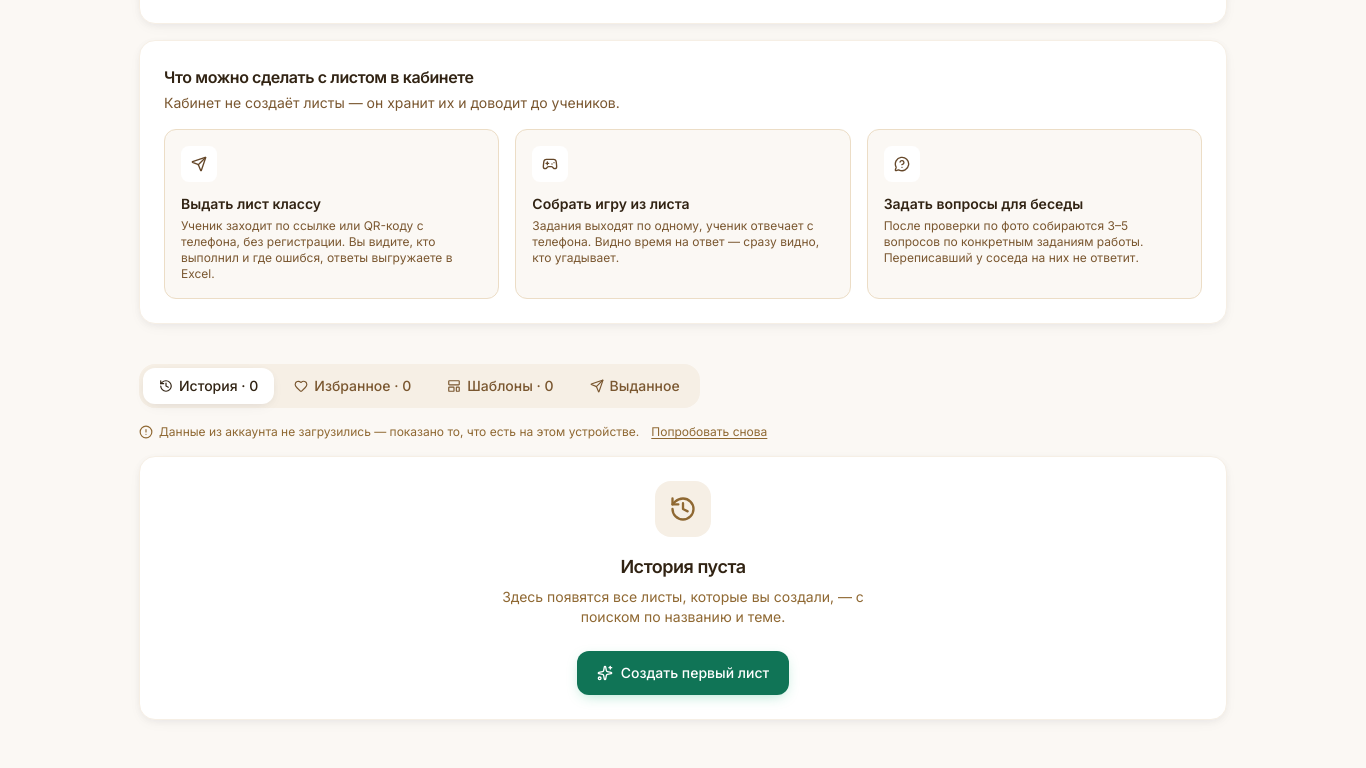
Scenario: Остальные вкладки кабинета › пустое избранное предлагает действие (был тупик action={null})
(page scrolled)
Expected: the heading "История пуста" is shown, [620, 556, 746, 577]
Step 1. Click the tab "Избранное · 0" → (353,386), box [278, 368, 427, 404]
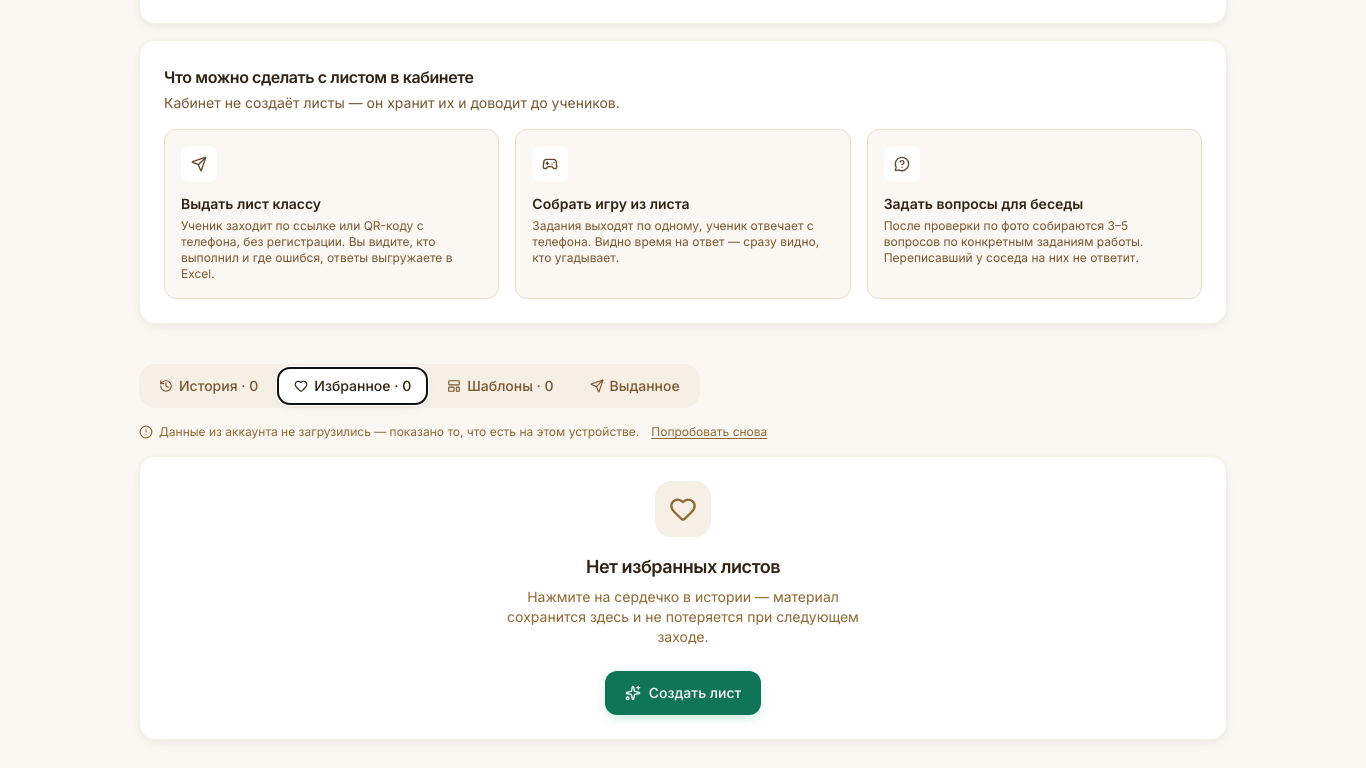
Result: the heading "Нет избранных листов" is shown at [586, 556, 780, 577]
Result: the link "Создать лист" is shown at [605, 671, 761, 715]
